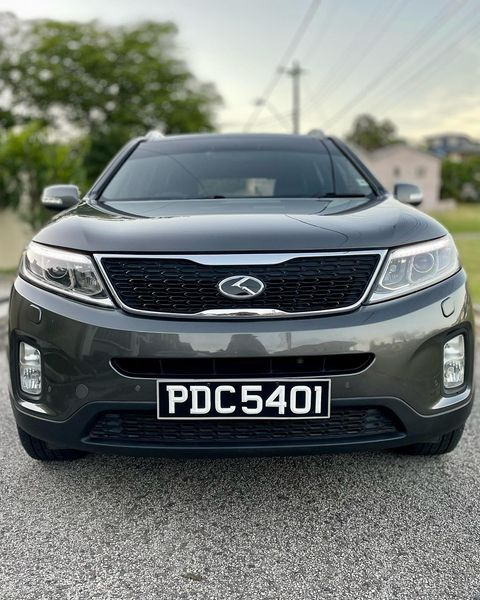License-Plate: (157, 380, 328, 416)
